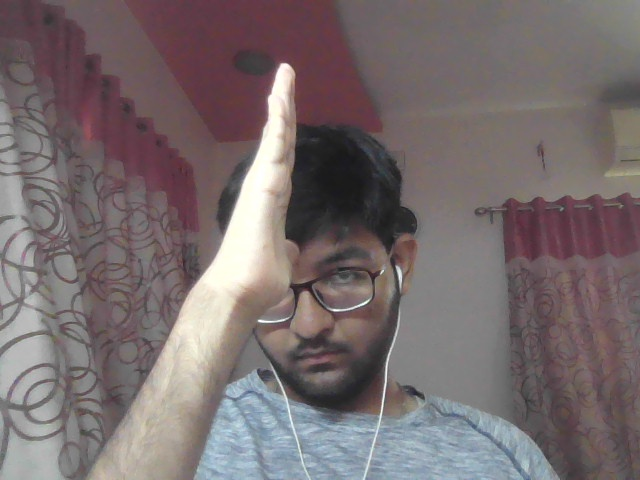પિતા: (189, 53, 329, 334)
